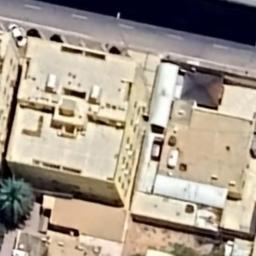sedan: (6, 19, 26, 50), (99, 39, 125, 56), (149, 136, 166, 162), (27, 25, 43, 41), (48, 32, 66, 46)
